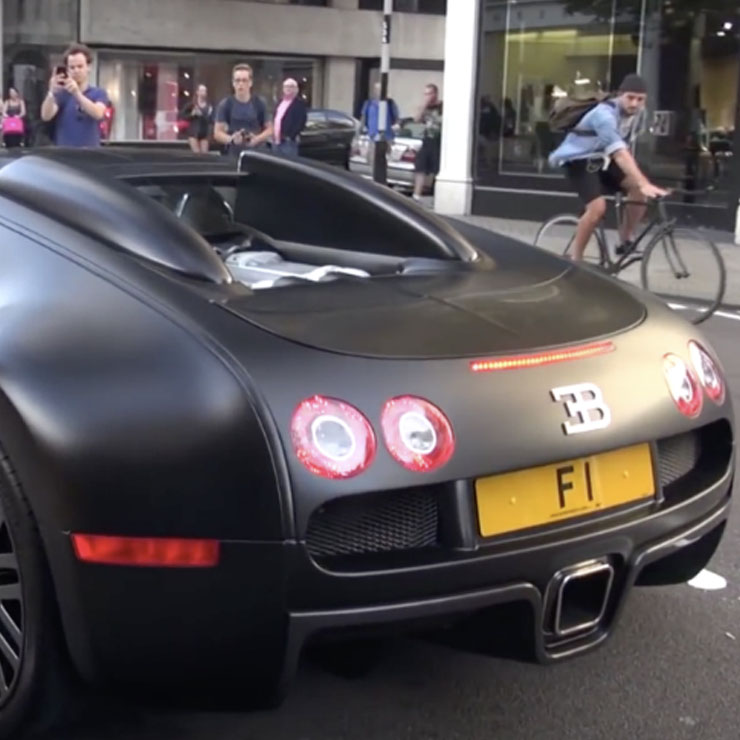number_plate: (466, 437, 676, 540)
